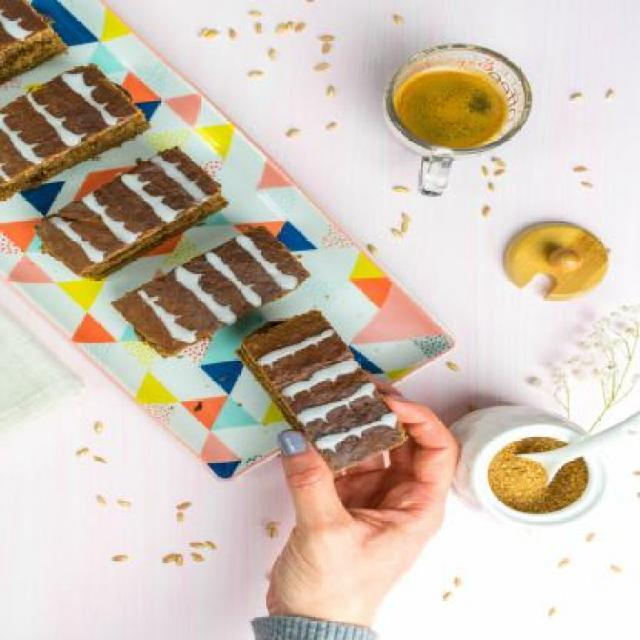Merendine packaged: (242, 308, 409, 476), (119, 226, 312, 360), (38, 150, 230, 284), (1, 64, 147, 198)
